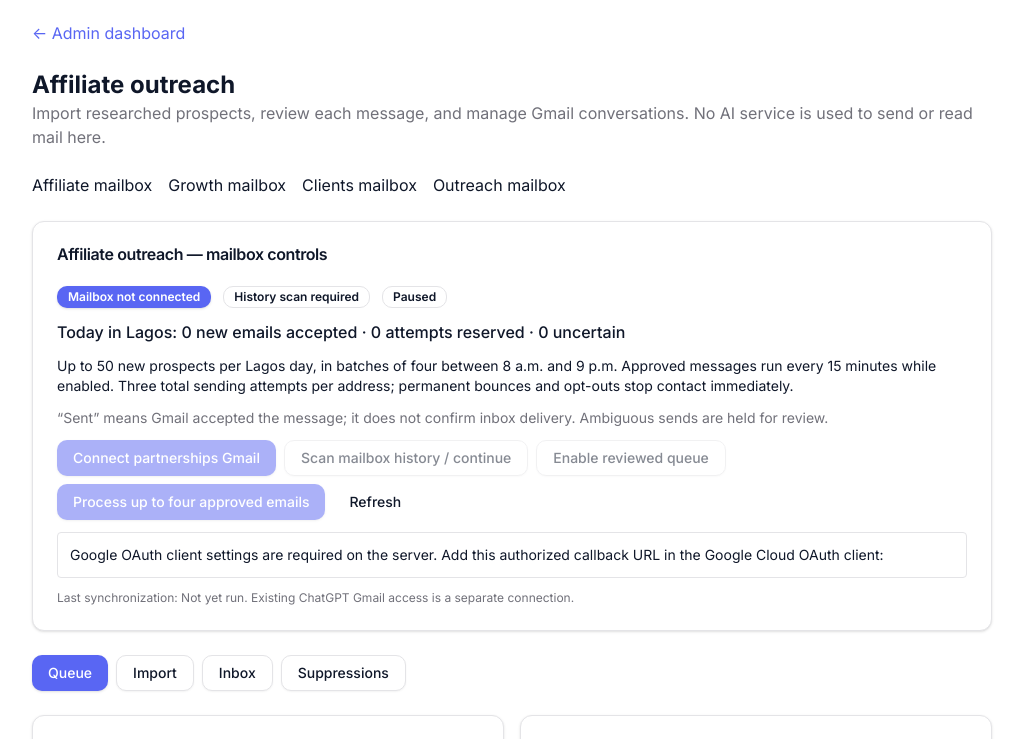
Test: outreach admin review controls › rejects malformed import JSON without submitting it
Step 1. Click the button "Import" → (155, 673), box [116,655,194,691]
(page scrolled)
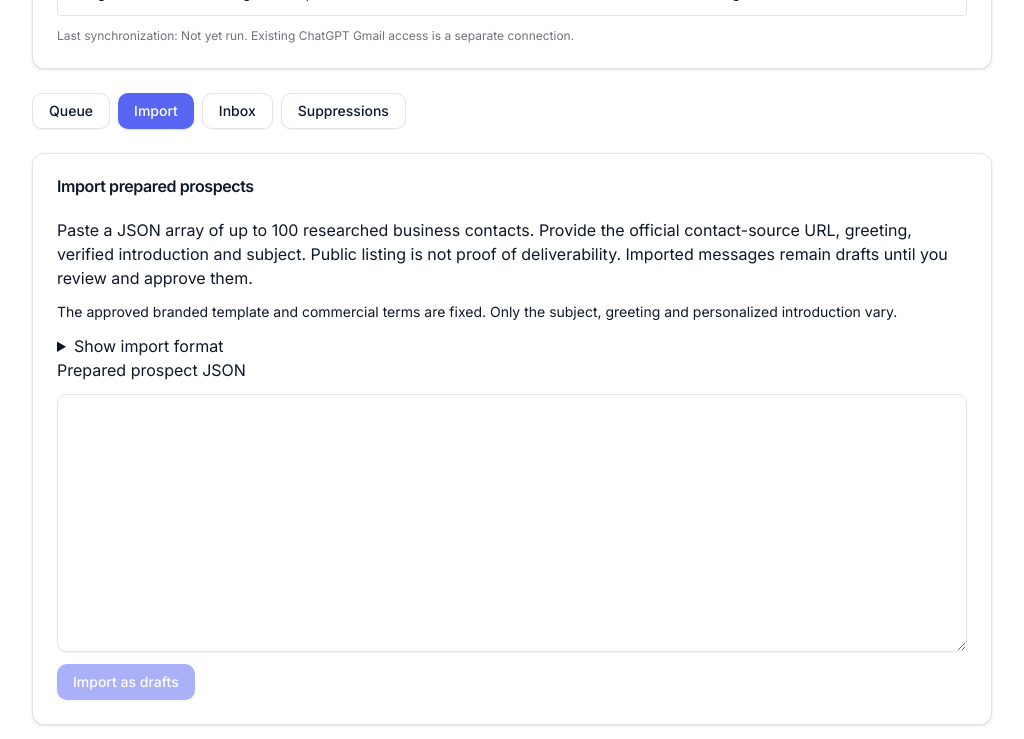
Step 2. Type "bad JSON" into the text box labelled "Prepared prospect JSON" → (512, 523), box [57,394,967,652]
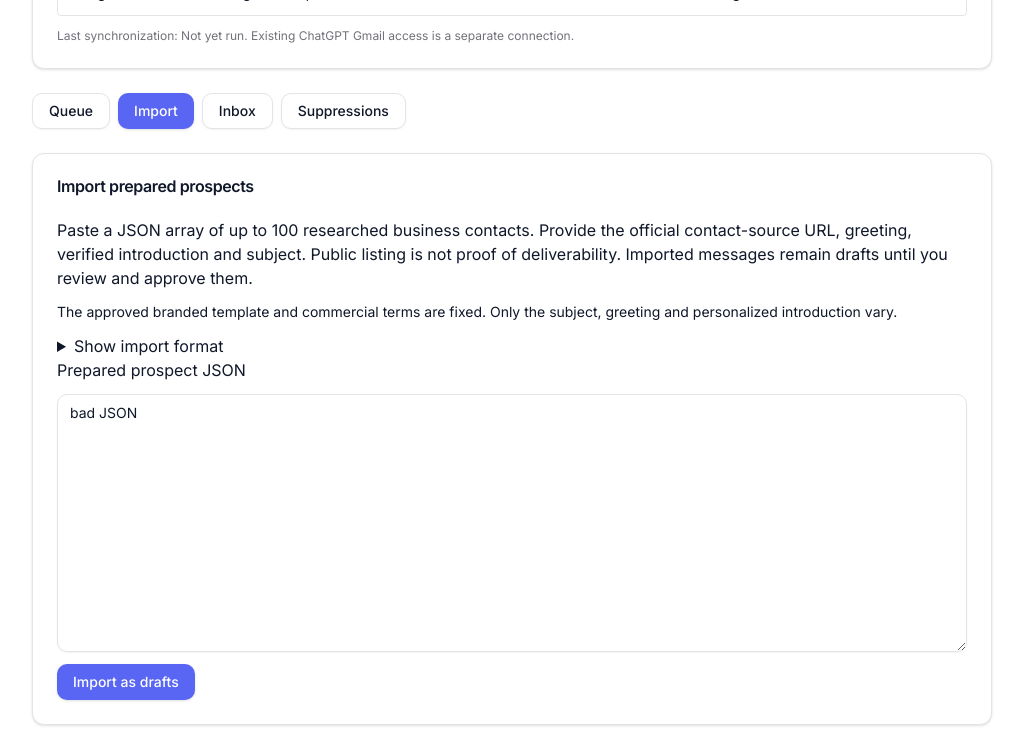
Step 3. Click the button "Import as drafts" → (126, 682), box [57,664,195,700]
(page scrolled)
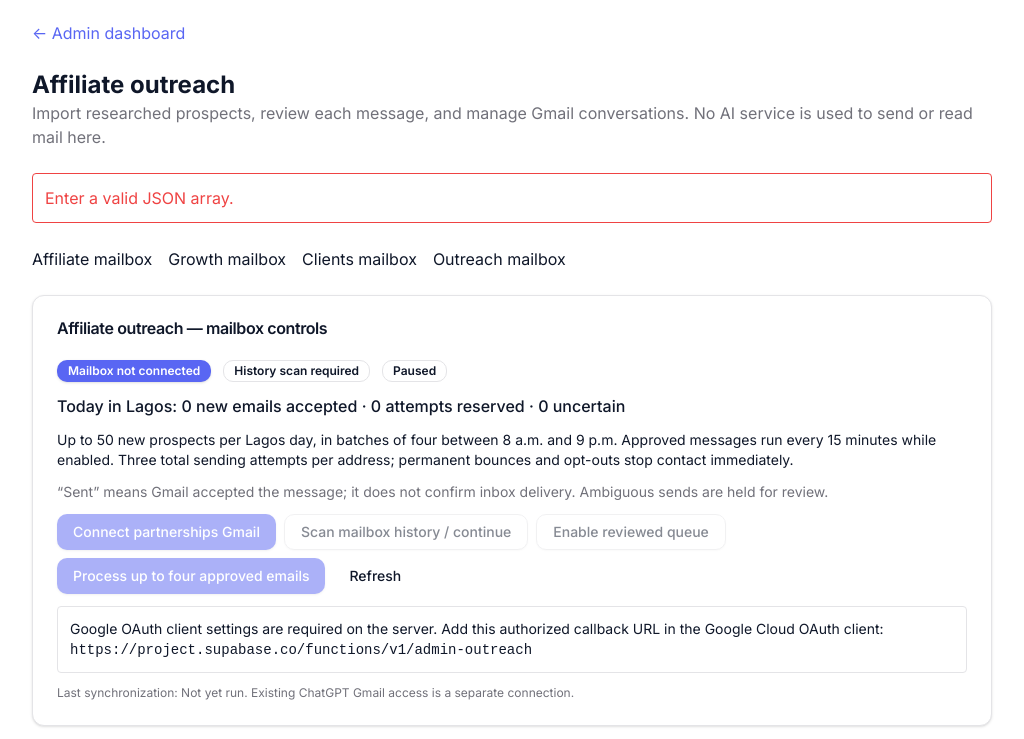
Expected: the message shows "valid JSON", [45,188,234,208]
